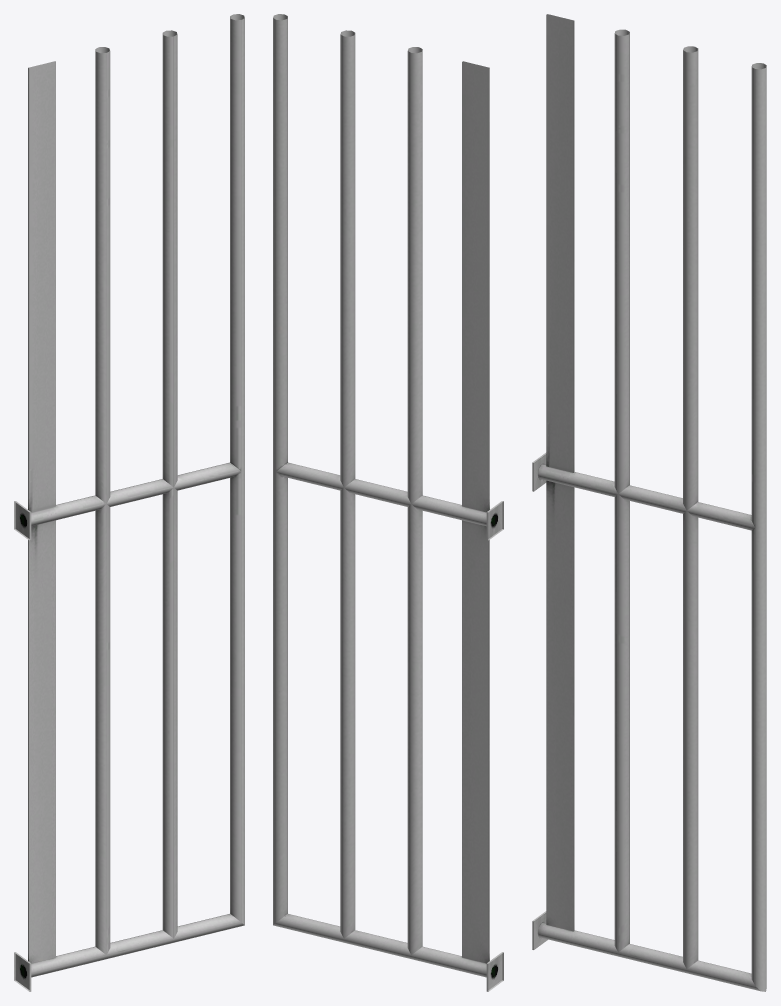
The model's file is props_trainyard_handrail128.glb.
The picture shows the model from 3 angles, left to right: view 1: azimuth 30°, elevation 25°; view 2: azimuth 150°, elevation 25°; view 3: azimuth 330°, elevation 25°; orthographic projection.
Visible parts, largest first — view 1: models/props_trainyard/handrail128; view 2: models/props_trainyard/handrail128; view 3: models/props_trainyard/handrail128.
Boxes of the visible parts, x1,y1,x2,y2 form: models/props_trainyard/handrail128: (14,14,244,991); models/props_trainyard/handrail128: (273,14,503,991); models/props_trainyard/handrail128: (532,14,766,991).
Bounding box in the file's own units: 33 × 130 × 4.
1 material, 1 textured.
